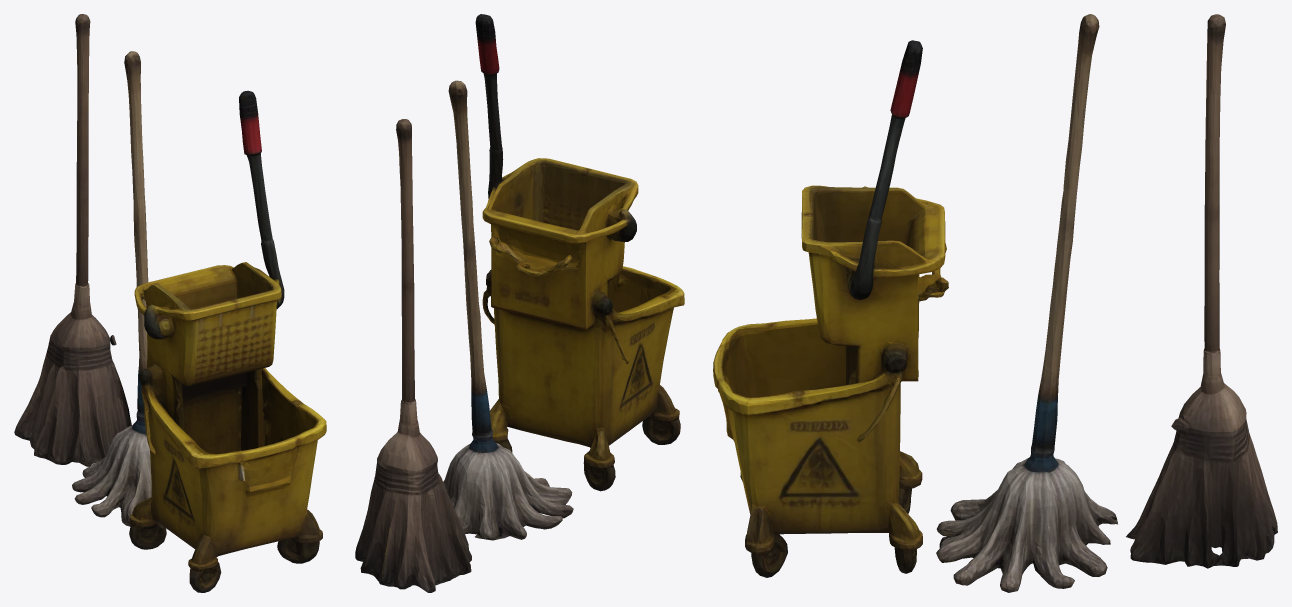
The model's file is mop_bucket_broom.glb.
3 renders of one model, left to right at view 1: azimuth 30°, elevation 25°; view 2: azimuth 150°, elevation 25°; view 3: azimuth 270°, elevation 25°, orthographic. The views are drawn at different scales.
Parts seen in each view (by area): view 1: geometry_0; view 2: geometry_0; view 3: geometry_0.
Part boxes in pixels (left/top/right/bottom): geometry_0: left=14, top=14, right=326, bottom=592; geometry_0: left=355, top=14, right=684, bottom=592; geometry_0: left=713, top=14, right=1277, bottom=592.
Size of the model in its own units: 0.3599 by 1 by 0.9509.
1 material, 1 textured.
